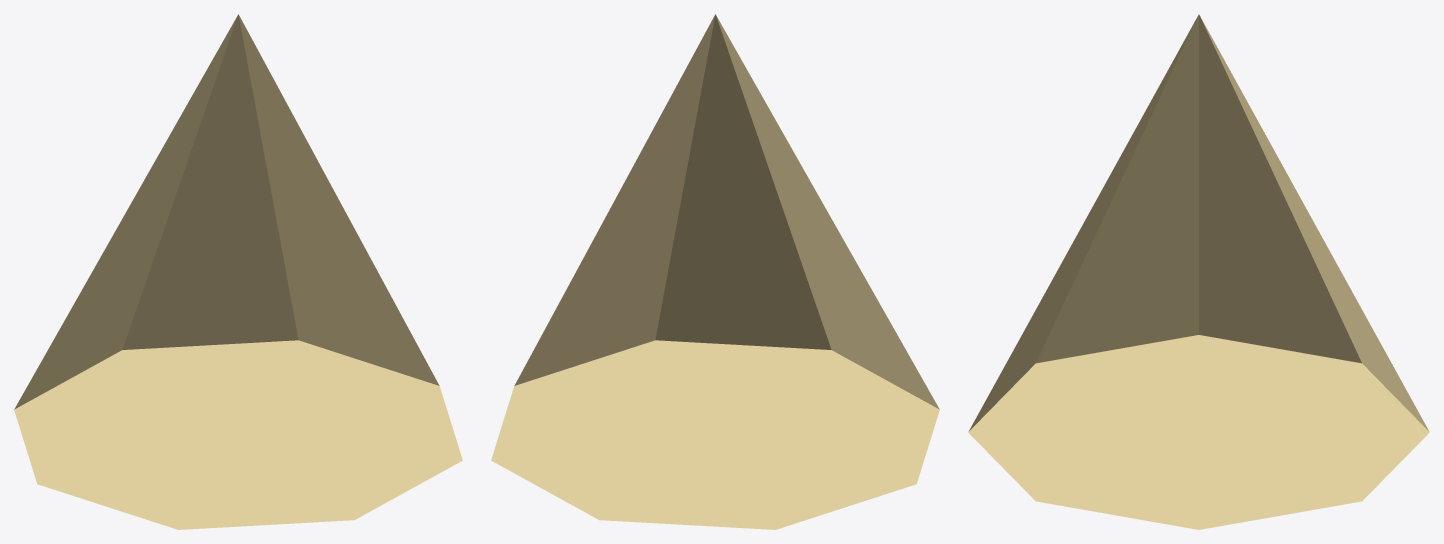
Rendered from lamp_warm_01.glb.
3 renders of one model, left to right at view 1: azimuth 30°, elevation 25°; view 2: azimuth 150°, elevation 25°; view 3: azimuth 270°, elevation 25°, orthographic.
Parts seen in each view (by area): view 1: 暖光灯; view 2: 暖光灯; view 3: 暖光灯.
Boxes of the visible parts, left/top/right/bottom form: 暖光灯: left=14, top=14, right=462, bottom=529; 暖光灯: left=491, top=14, right=939, bottom=529; 暖光灯: left=968, top=14, right=1429, bottom=529.
Size of the model in its own units: 1 by 1 by 1.
